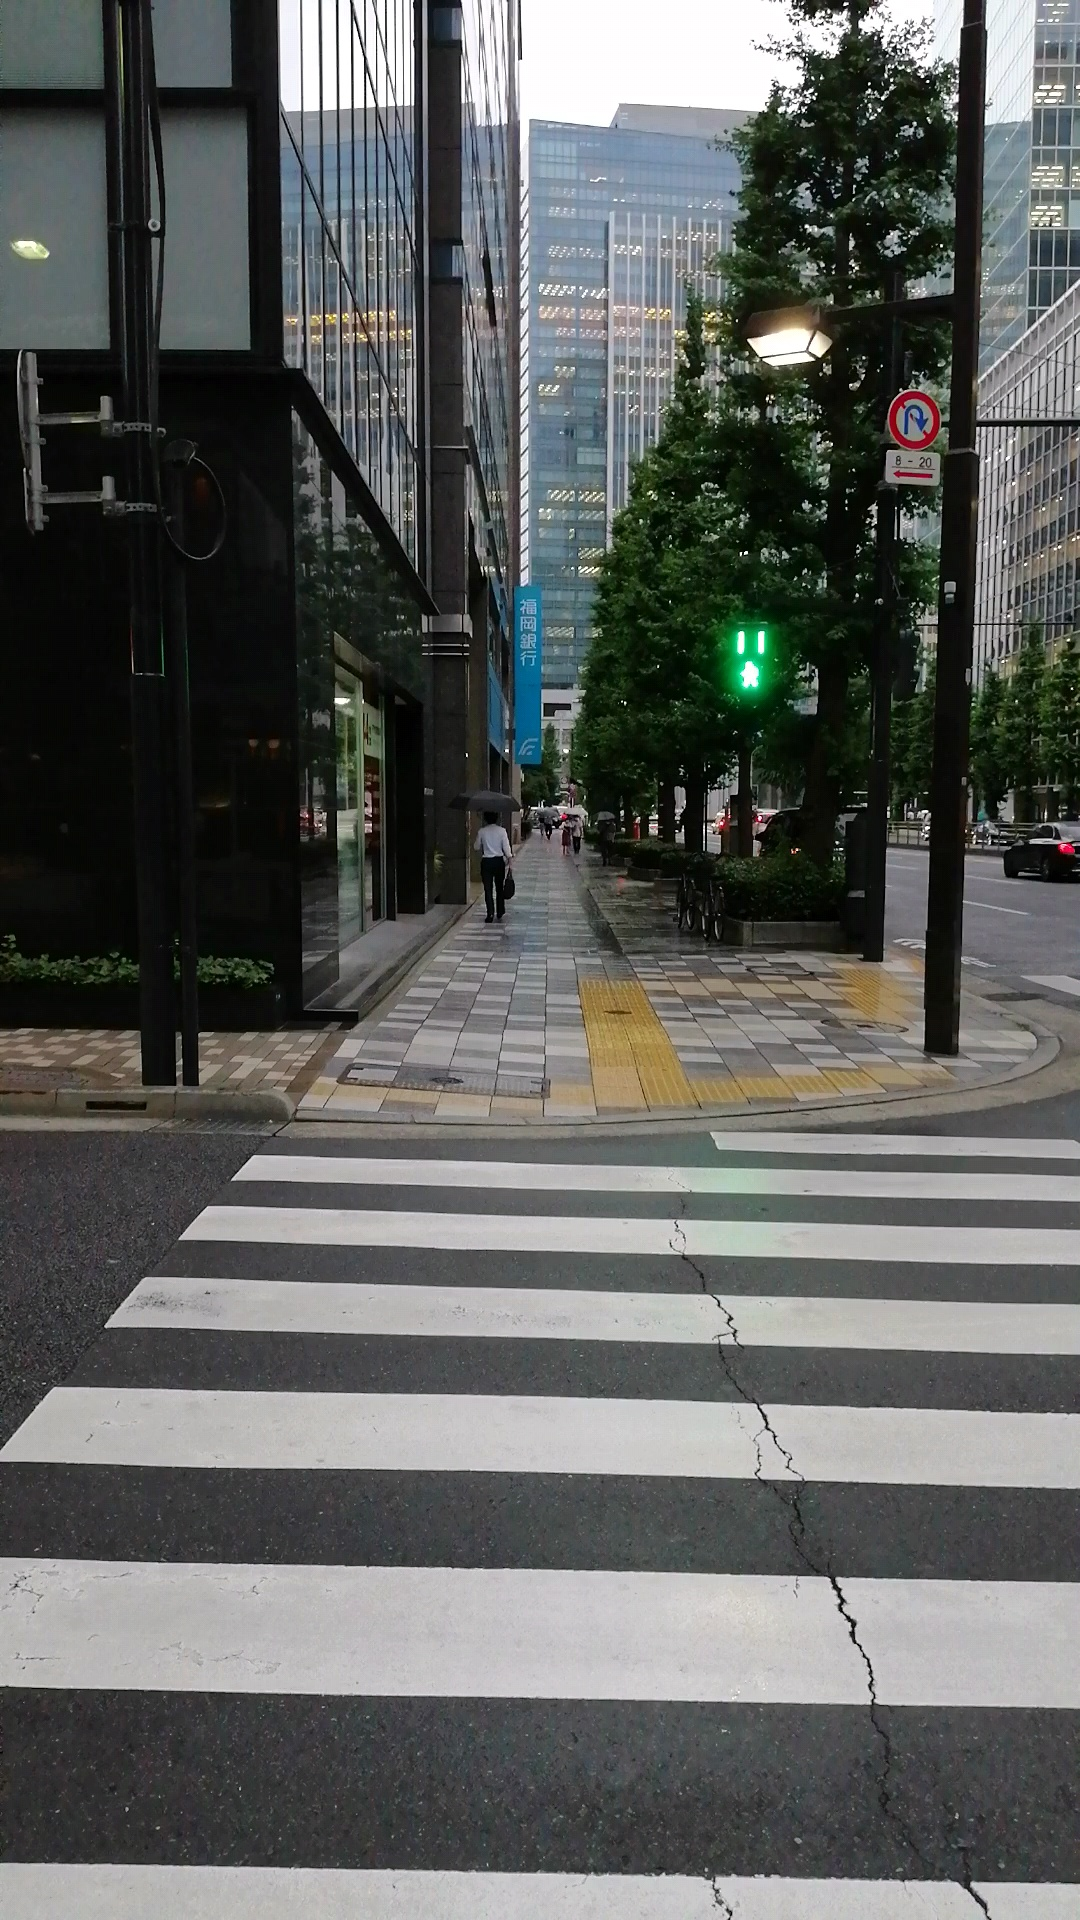green: (727, 618, 771, 698)
